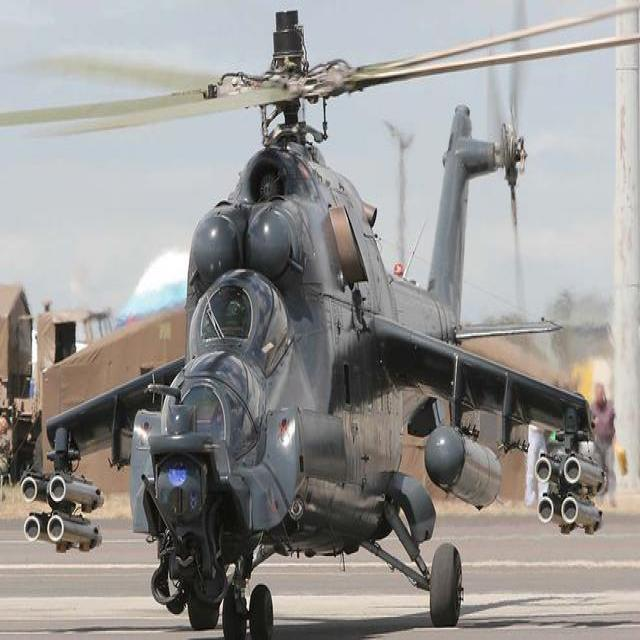MIL_HELO: (3, 7, 639, 630)
